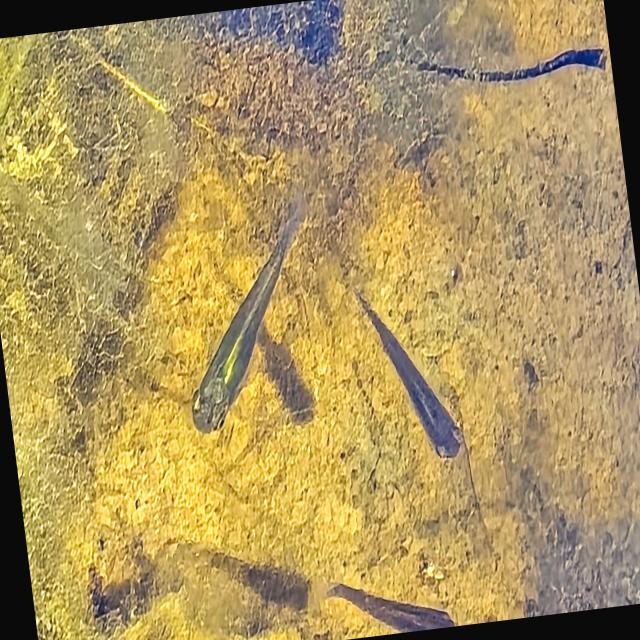Sivrisinek Baligi: (142, 180, 336, 453), (342, 243, 483, 493), (324, 533, 479, 640)
